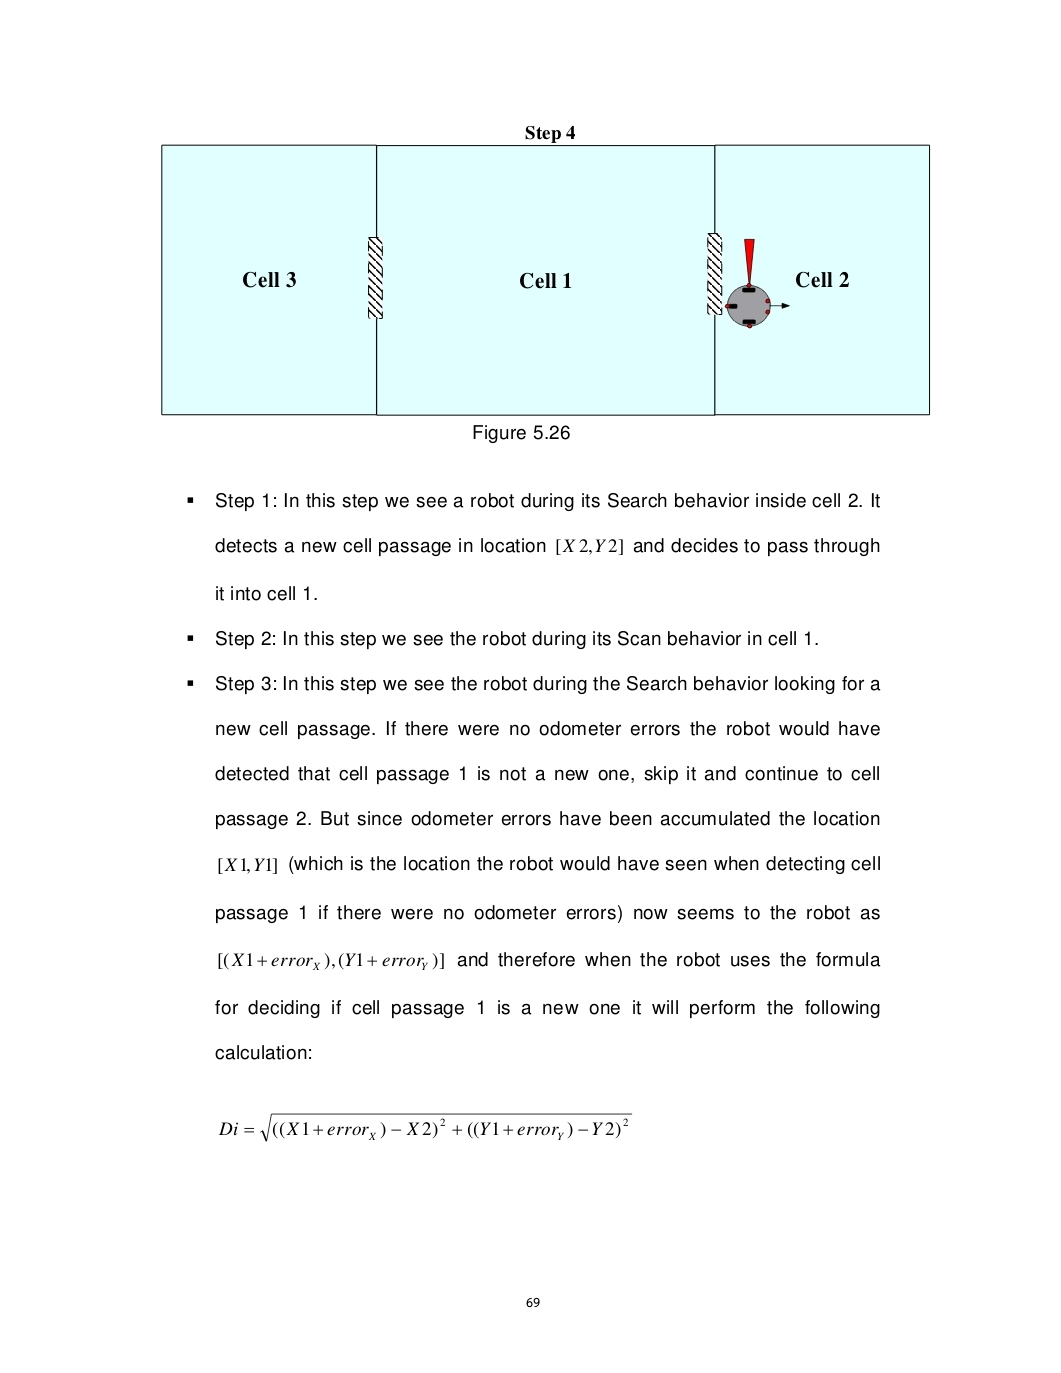figure: (160, 144, 929, 415)
formula: (220, 1112, 631, 1142)
